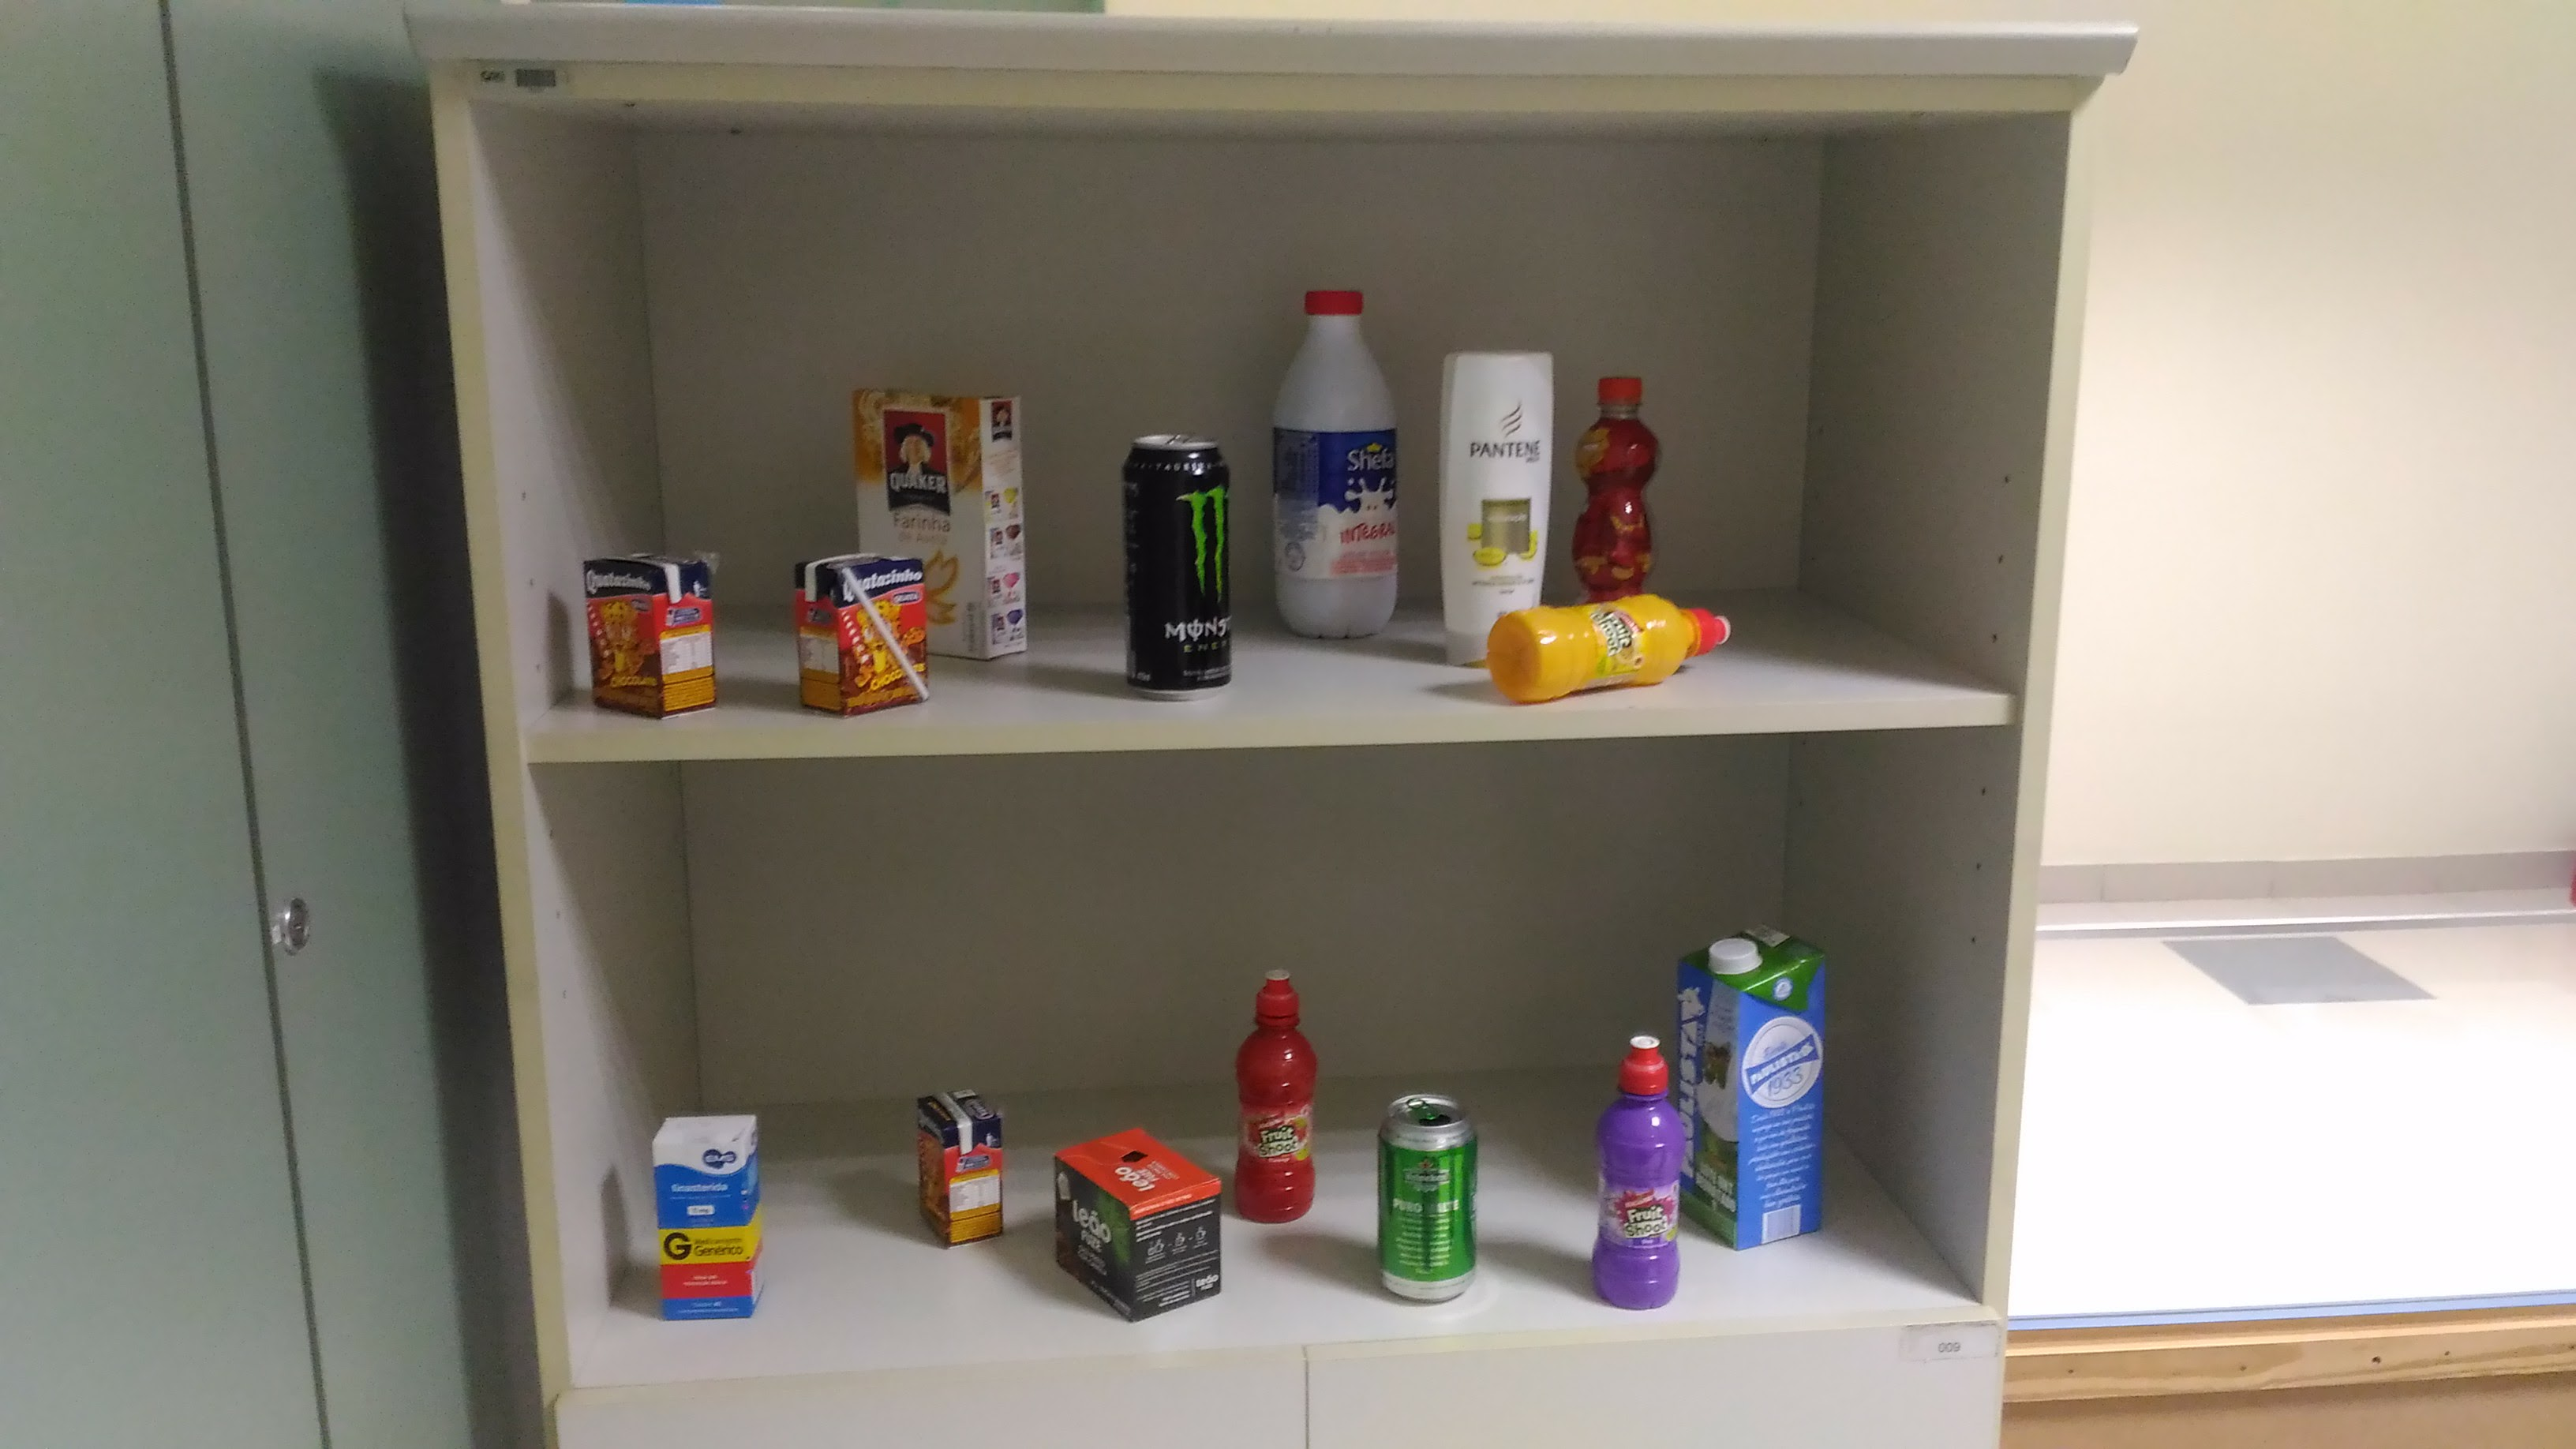cereal: (843, 376, 1034, 554)
chocolate_milk: (572, 540, 727, 720), (784, 542, 938, 723), (913, 1084, 1012, 1256)
heineken: (1369, 1084, 1482, 1312)
iron_man: (1564, 368, 1668, 585)
medicine: (642, 1103, 764, 1329)
milk_bottle: (1260, 269, 1409, 647)
milk_box: (1672, 915, 1840, 1259)
monster: (1116, 421, 1240, 706)
purple_juice: (1578, 1024, 1702, 1324)
red_juice: (1223, 960, 1330, 1225)
shampoo: (1426, 337, 1559, 610)
tea_box: (1046, 1121, 1229, 1329)
yellow_juice: (1477, 585, 1742, 712)
